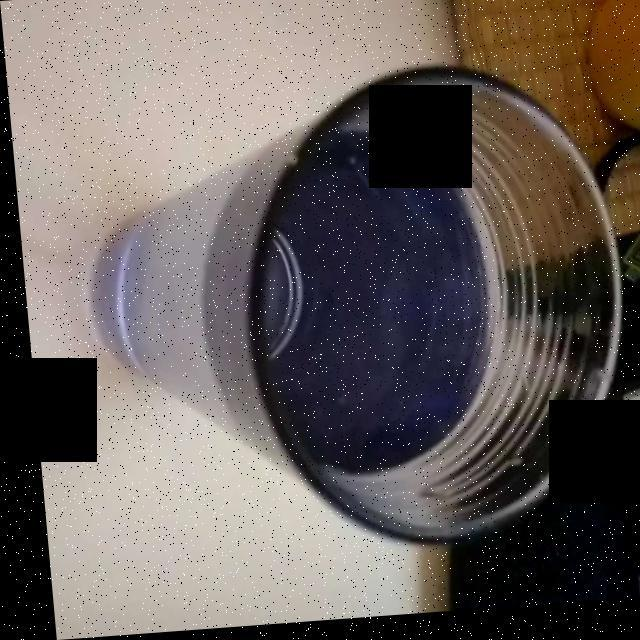water: (249, 109, 553, 497)
